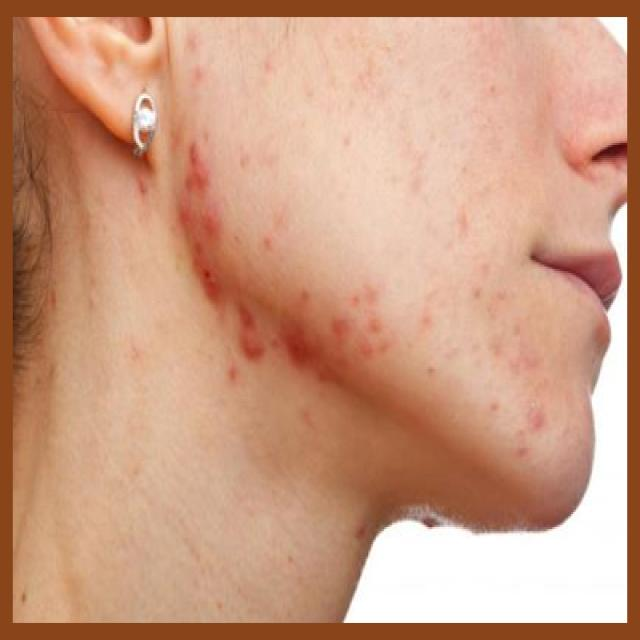Acne: (270, 288, 380, 368), (223, 286, 267, 384), (188, 253, 250, 307), (489, 319, 553, 371), (181, 130, 215, 197), (175, 214, 238, 247), (527, 402, 571, 446), (177, 36, 214, 83), (348, 503, 381, 554), (288, 177, 335, 207), (133, 166, 170, 200), (257, 47, 283, 91), (414, 311, 452, 341), (451, 202, 479, 239)
